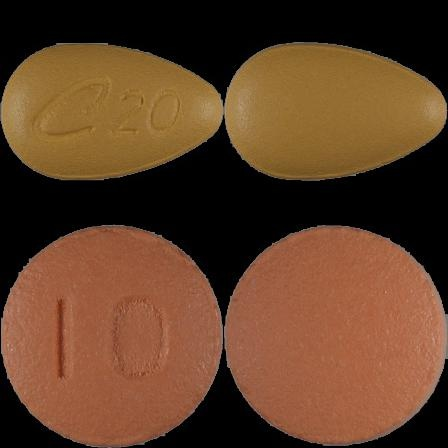21695-029: (0, 0, 224, 224)
